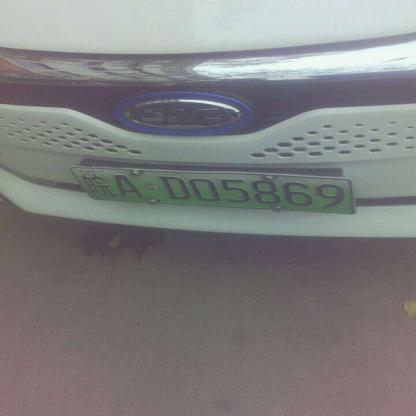lp: (69, 168, 353, 213)
